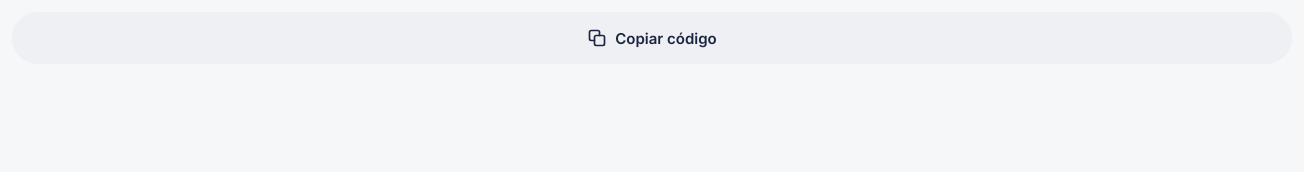
rf14: copying preserves the complete Pix payload and announces success
Click the button "Copiar código" at point(652, 38), box [12,12,1292,64]
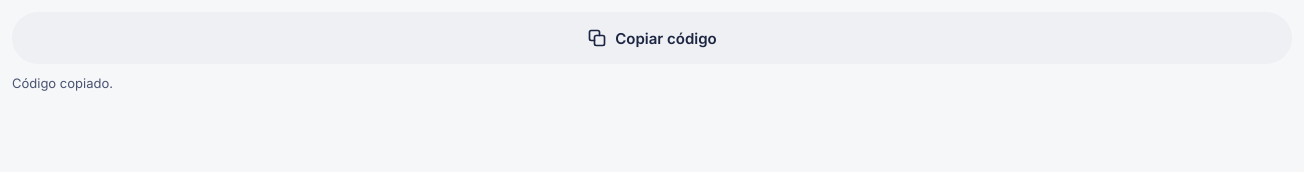
expect the message reads "Código copiado.": met, box [12,75,113,91]
